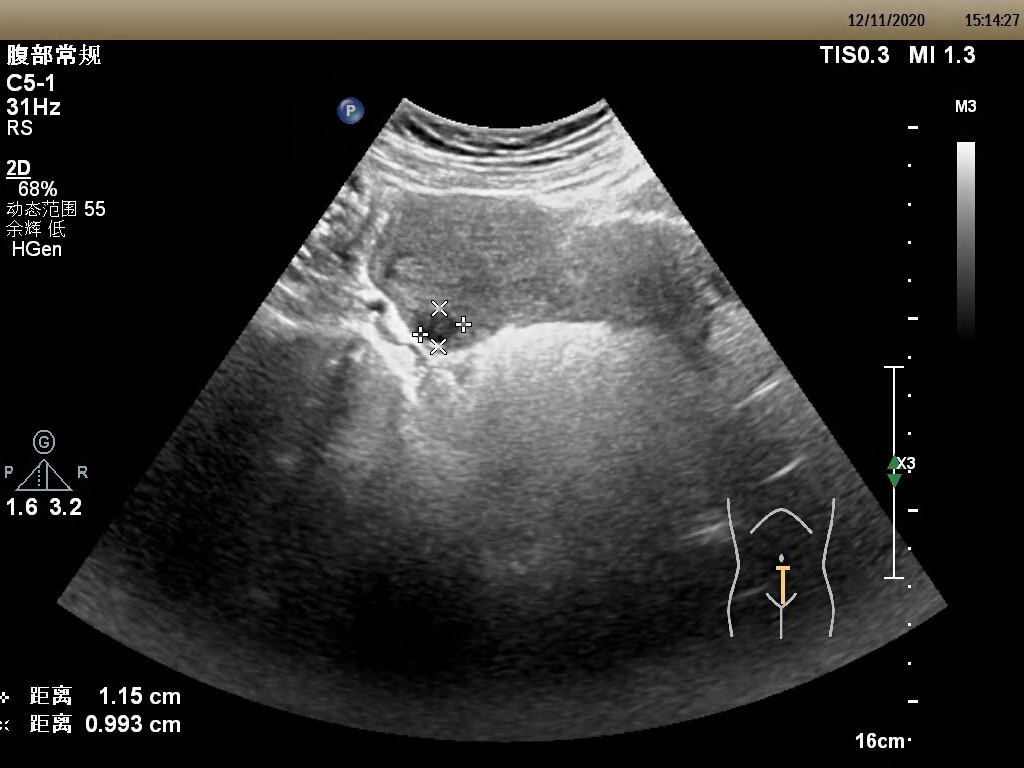肌瘤: (420, 305, 463, 348)
